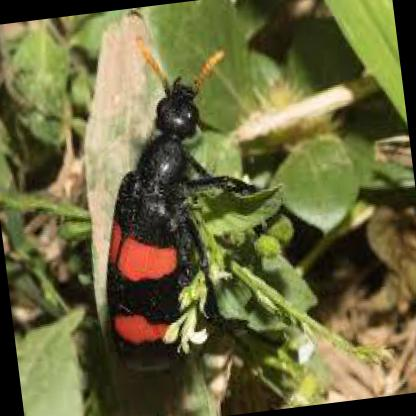blister beetle: (106, 34, 285, 366)
